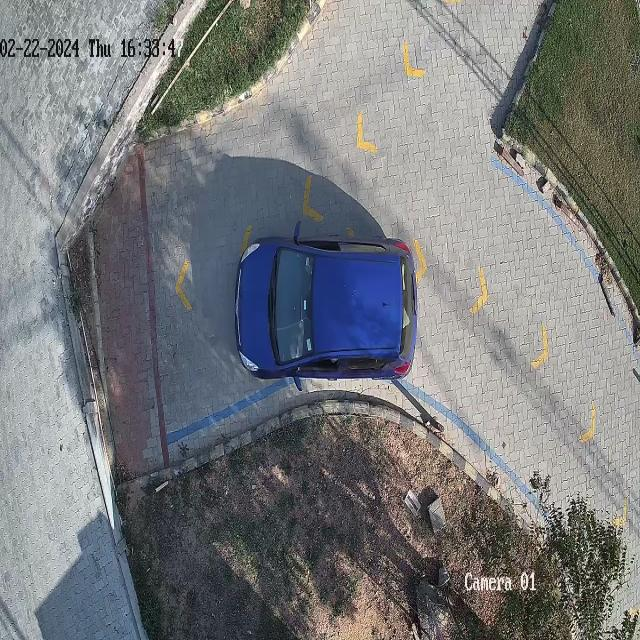car: (234, 222, 418, 389)
